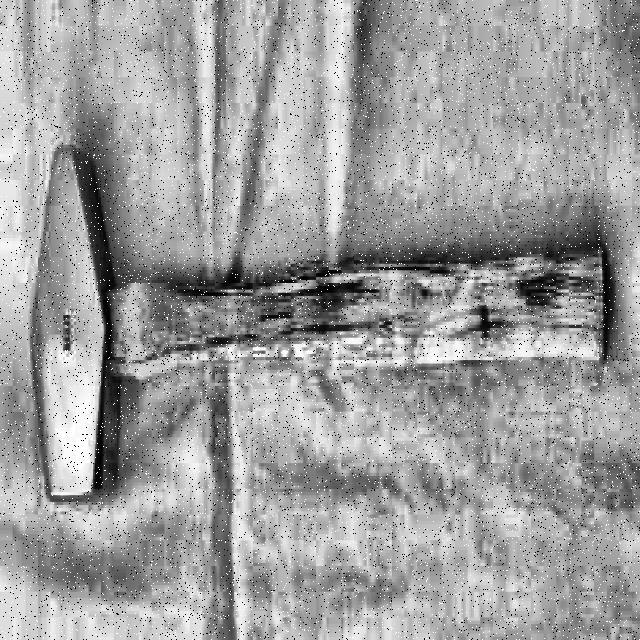hammer: (29, 146, 609, 503)
